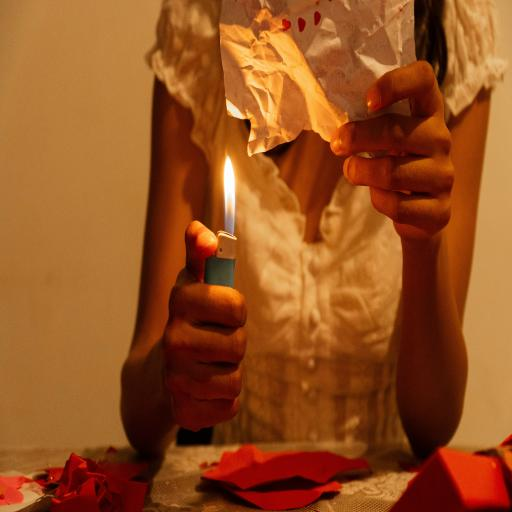lighter: (197, 144, 251, 322)
